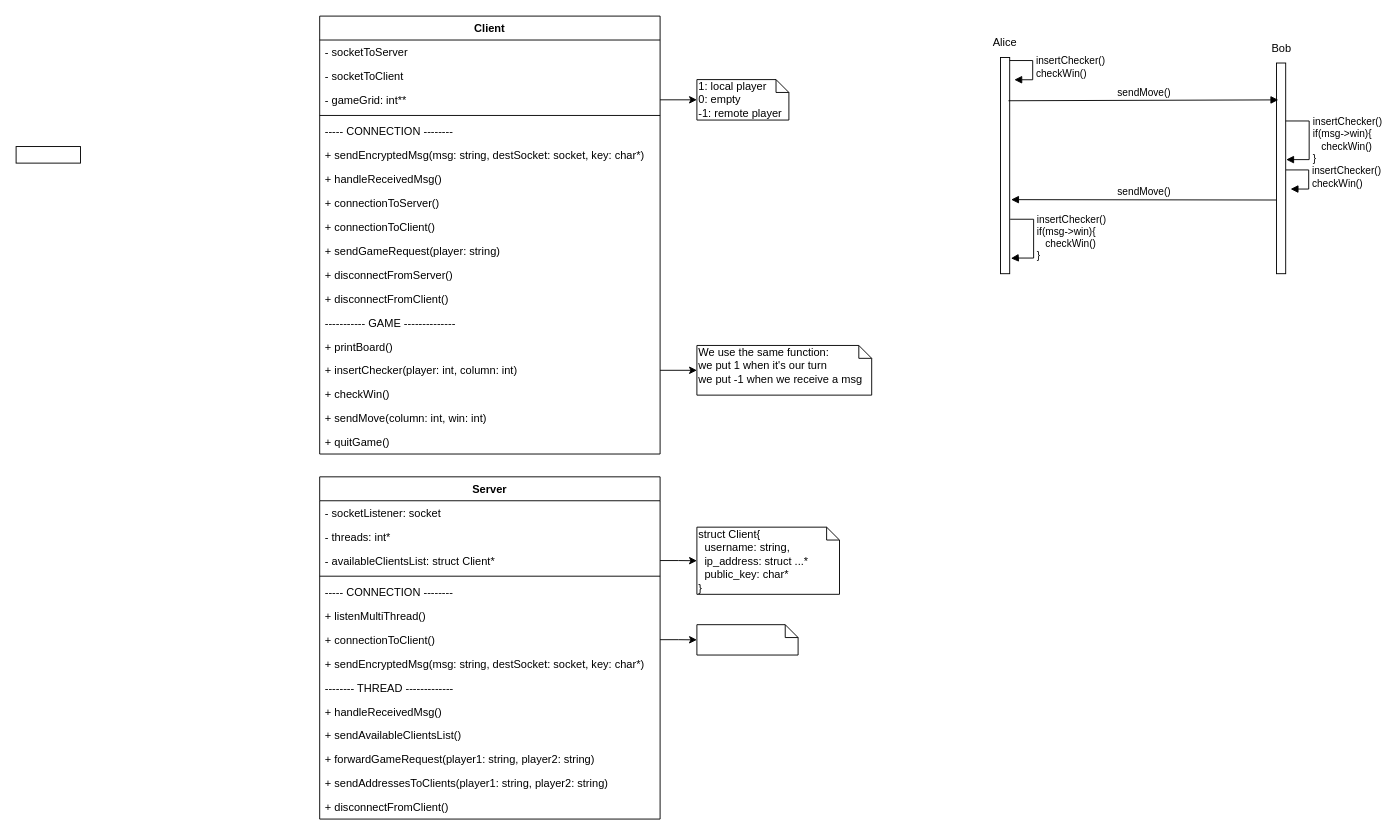
This 1397x838 diagram has some shape labels left out. The centre of each missing label's shape, as x and y in pixels:
Different from the one for the client!: the point at 747,639
OPCODE: the point at 47,154
